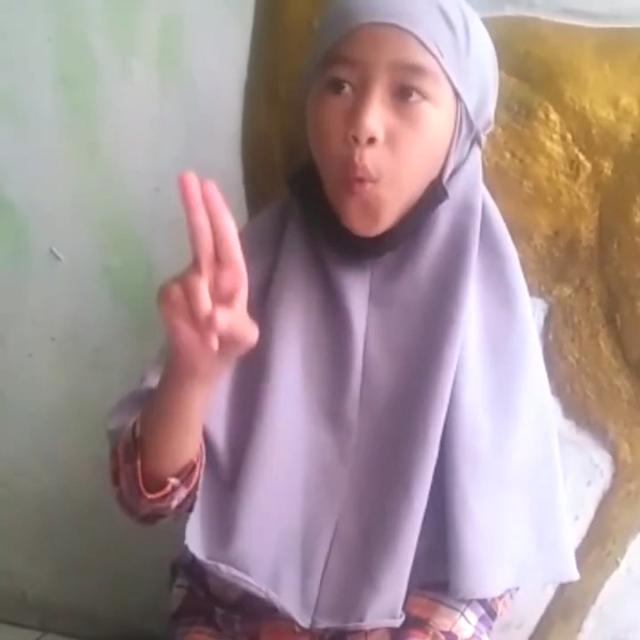U: (154, 166, 270, 378)
